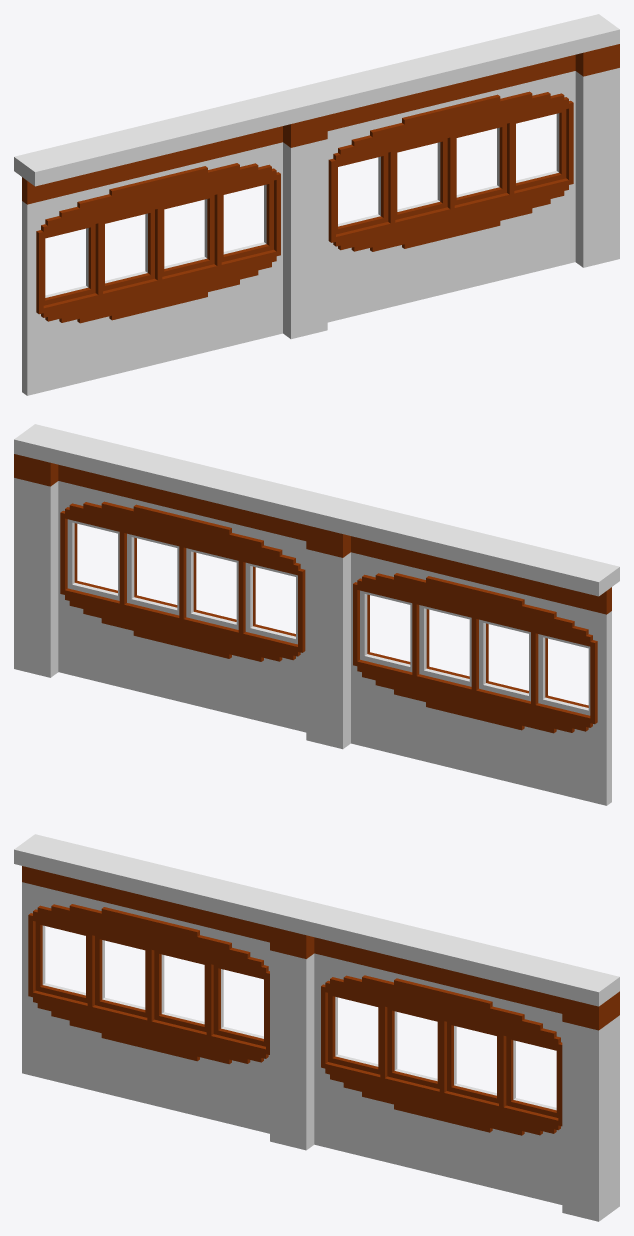
The model's file is inside_classroom_lantai_3_window.obj.
The picture shows the model from 3 angles, top to bottom: view 1: azimuth 30°, elevation 25°; view 2: azimuth 150°, elevation 25°; view 3: azimuth 330°, elevation 25°; orthographic projection.
Bounding box in the file's own units: 12.8 × 4.8 × 0.8.
Materials: 1 (1 with a texture image).
